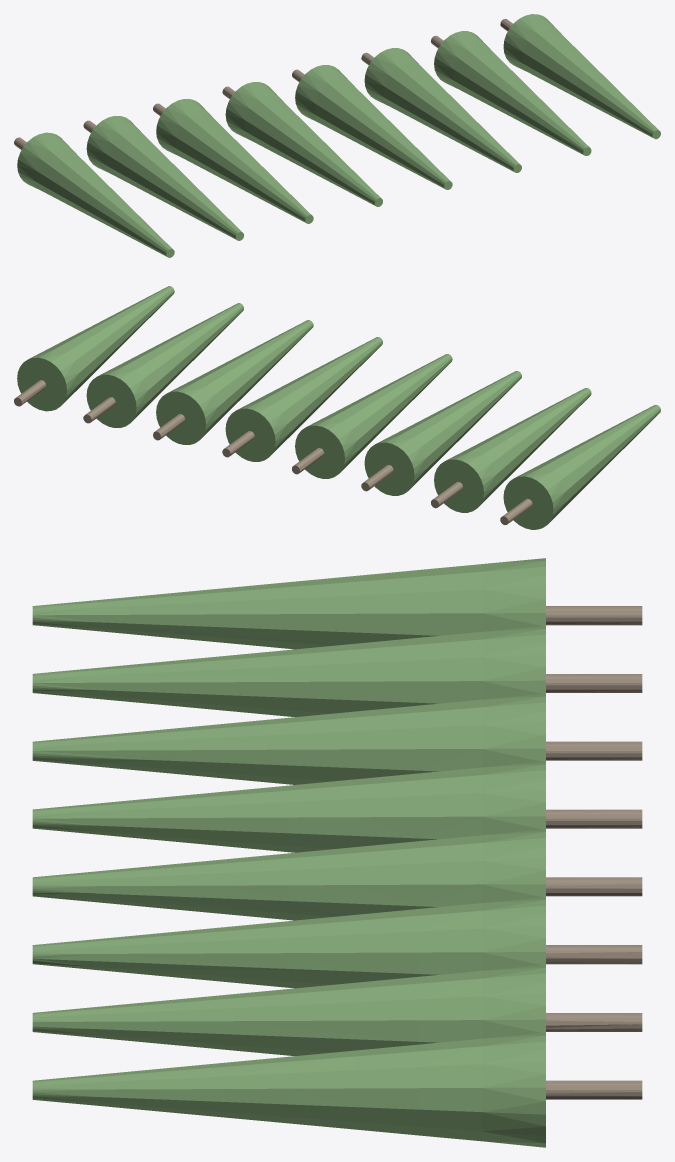
Rendered from r-149-twente-poplar-row.glb.
3 views of the same model, one above another, from view 1: azimuth 30°, elevation 25°; view 2: azimuth 150°, elevation 25°; view 3: azimuth 270°, elevation 25° (orthographic). The views are drawn at different scales.
Visible parts, largest first — view 1: foliage, trunks; view 2: foliage, trunks; view 3: foliage, trunks.
Boxes of the visible parts, x1,y1,x2,y2 form: foliage: (17, 14, 660, 257); trunks: (14, 19, 512, 149); foliage: (17, 286, 660, 529); trunks: (14, 380, 532, 524); foliage: (32, 558, 545, 1147); trunks: (546, 606, 642, 1099).
Size of the model in its own units: 38600 by 3572 by 18998.
